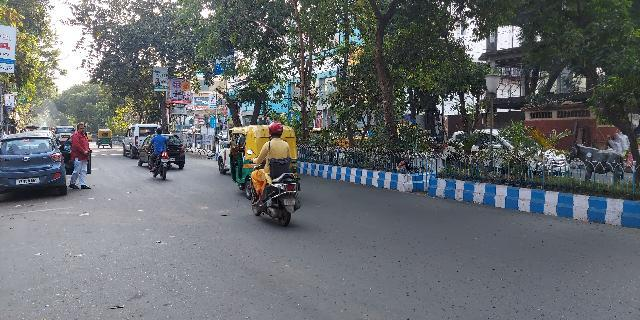Autorickshaw: (222, 124, 303, 197)
Car: (1, 132, 68, 199), (118, 123, 161, 163)
Motorbike: (247, 122, 305, 233), (145, 124, 173, 181)
